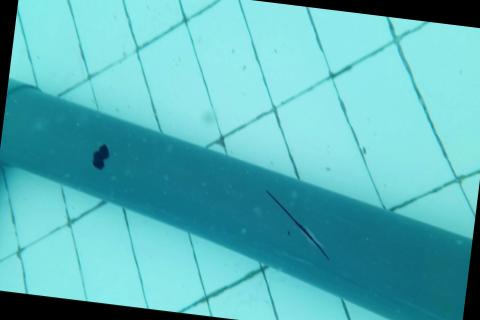kebocoran: (88, 142, 111, 173)
keretakan: (255, 187, 338, 263)
